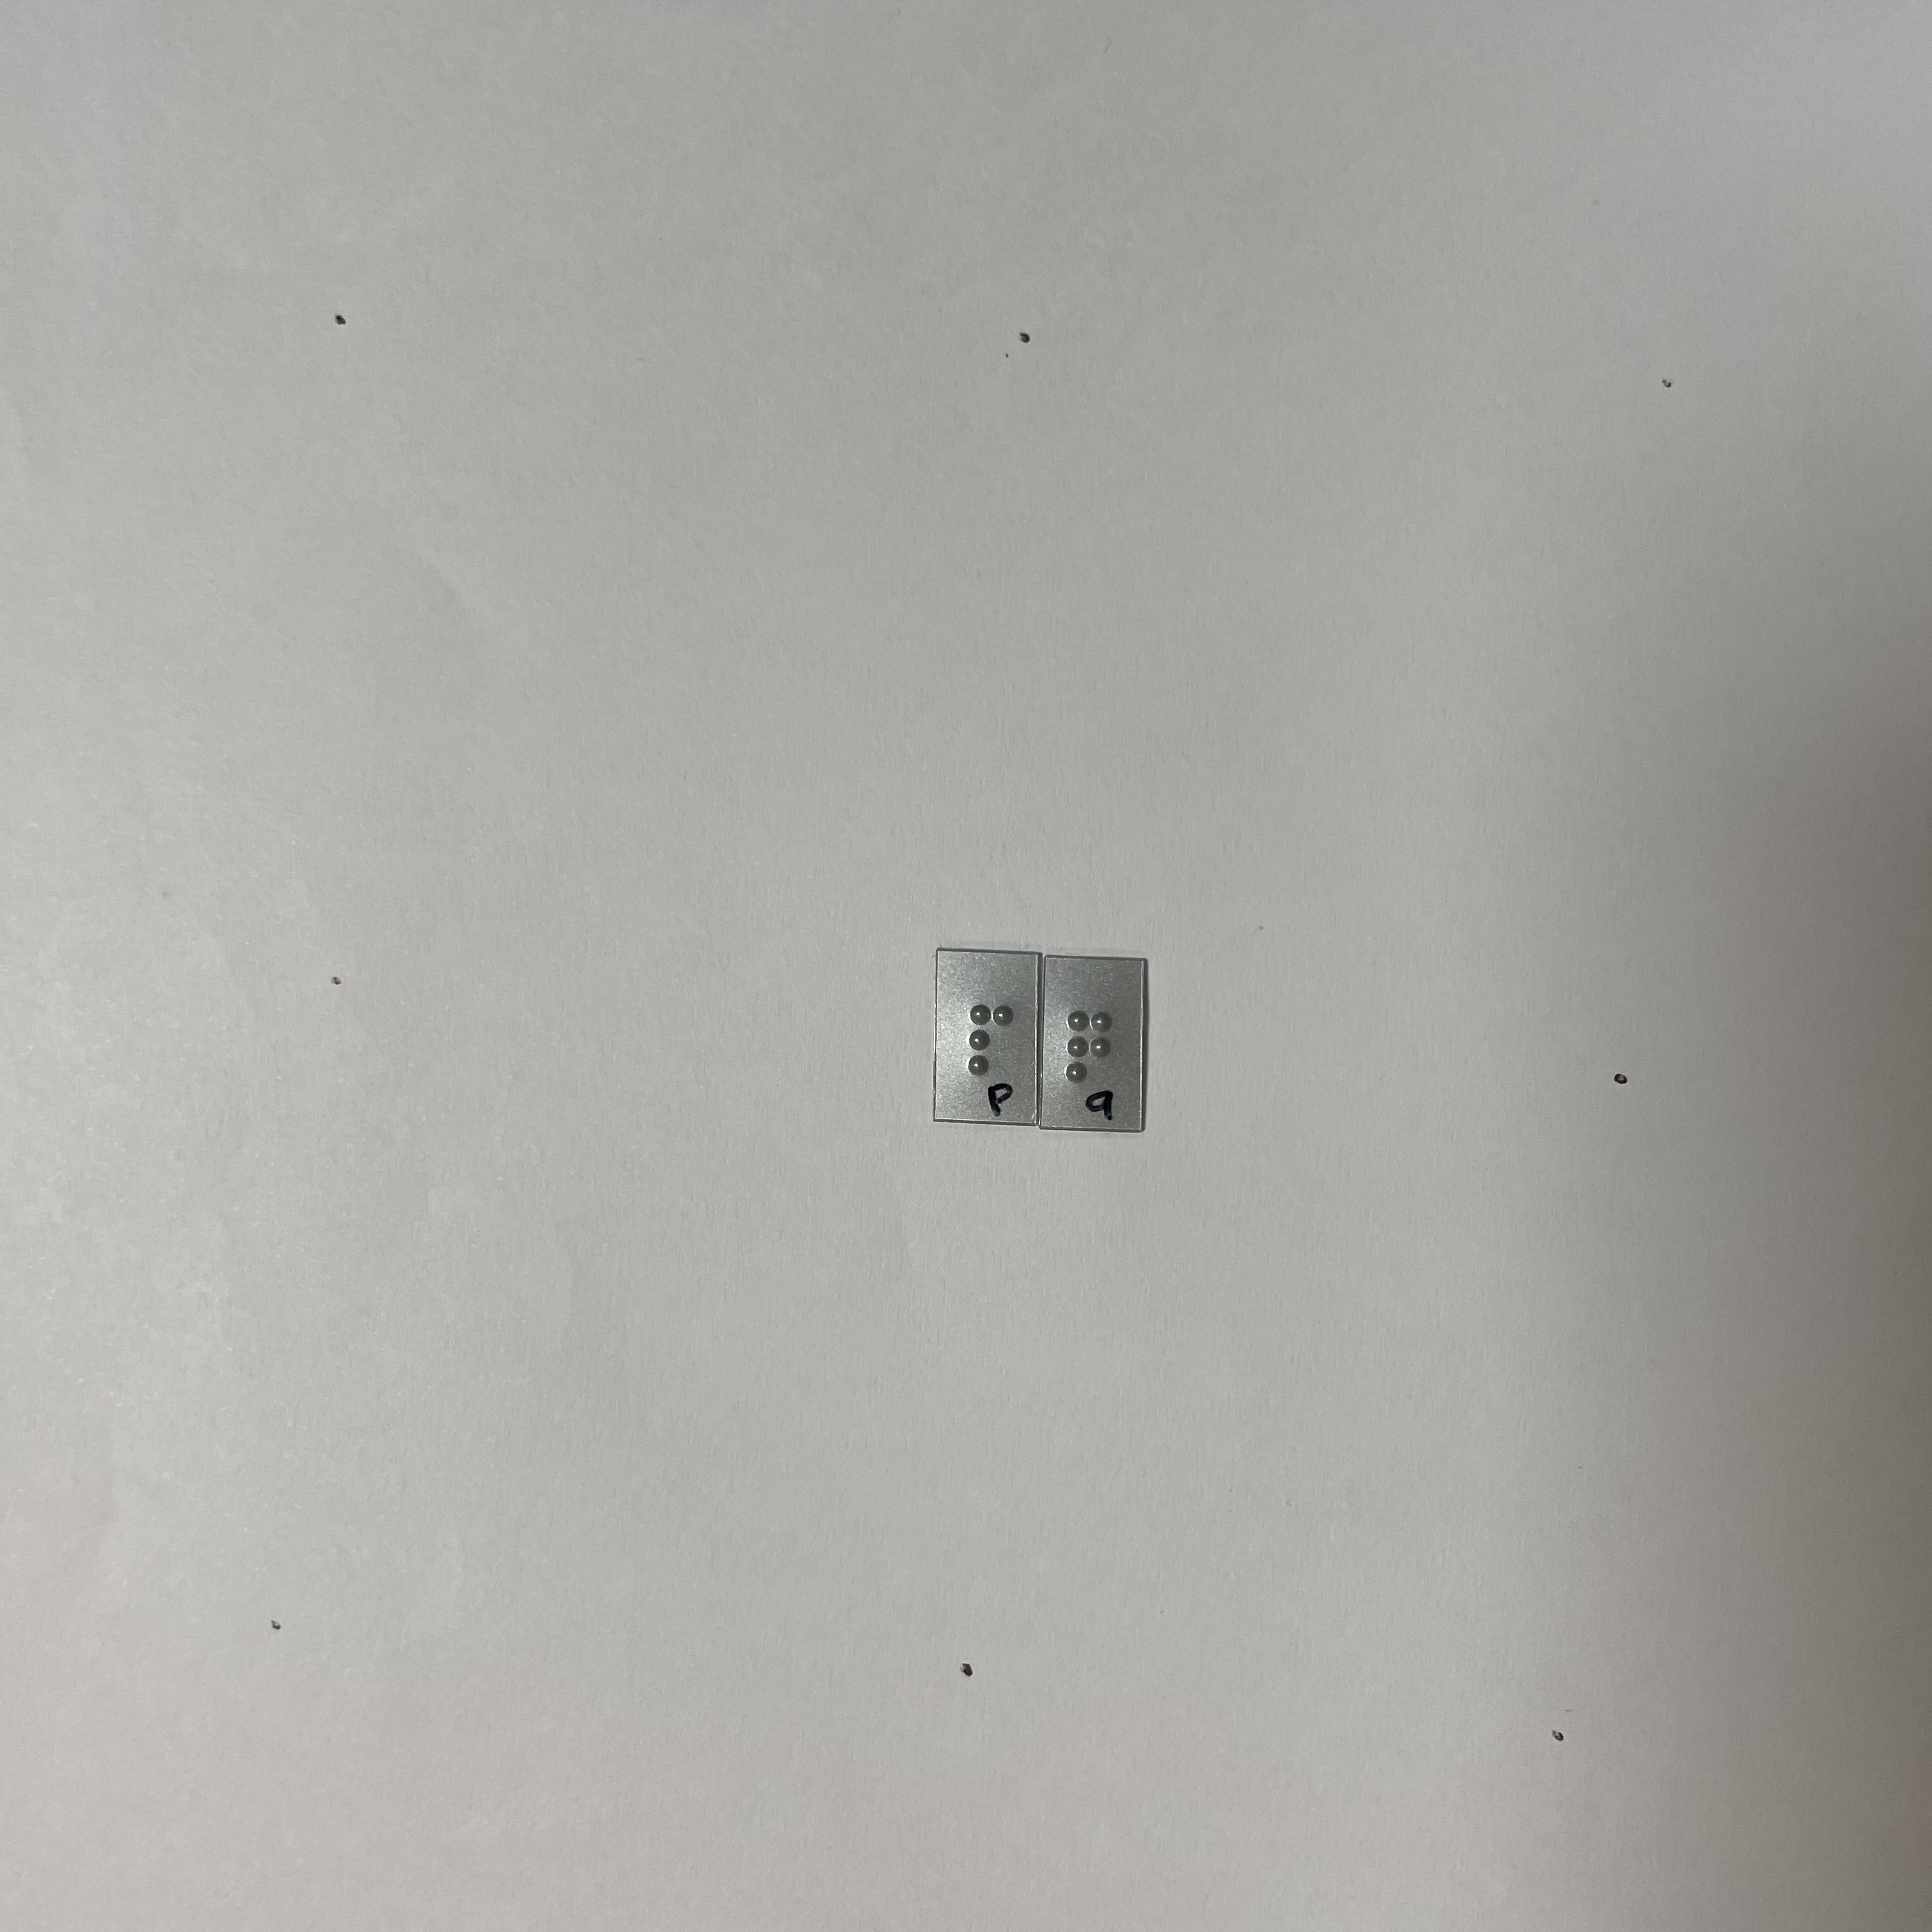p: (956, 997, 1022, 1084)
q: (1062, 997, 1126, 1098)
